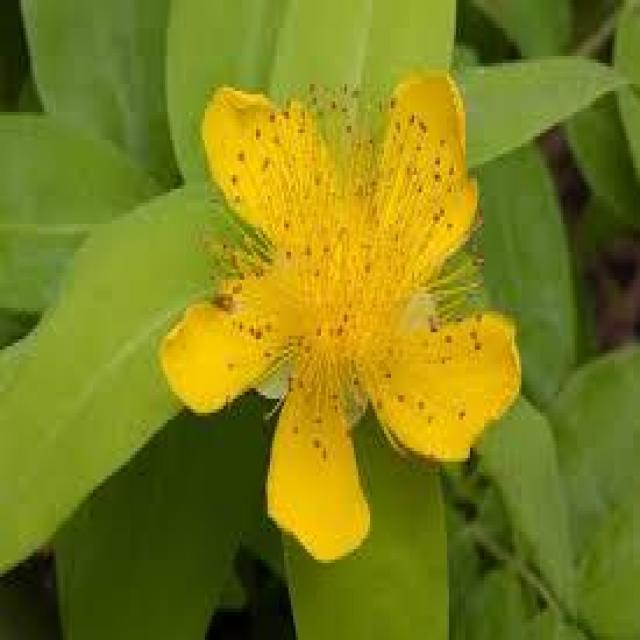organic waste: (192, 75, 502, 509)
